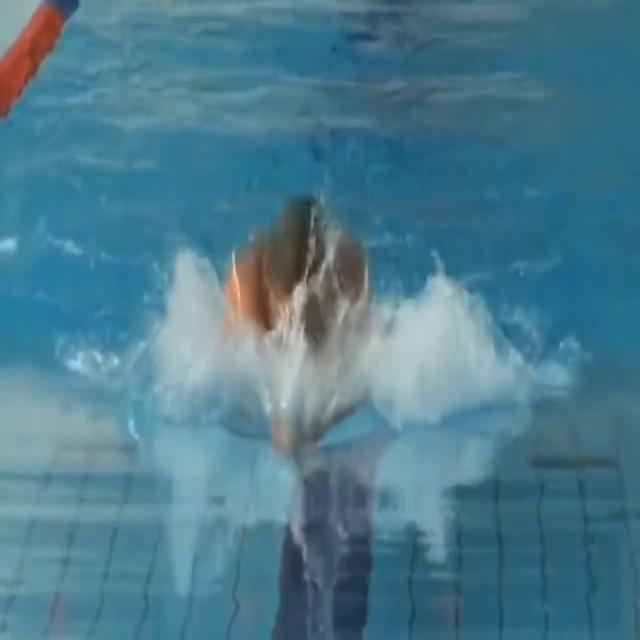Swimming: (218, 192, 368, 456)
